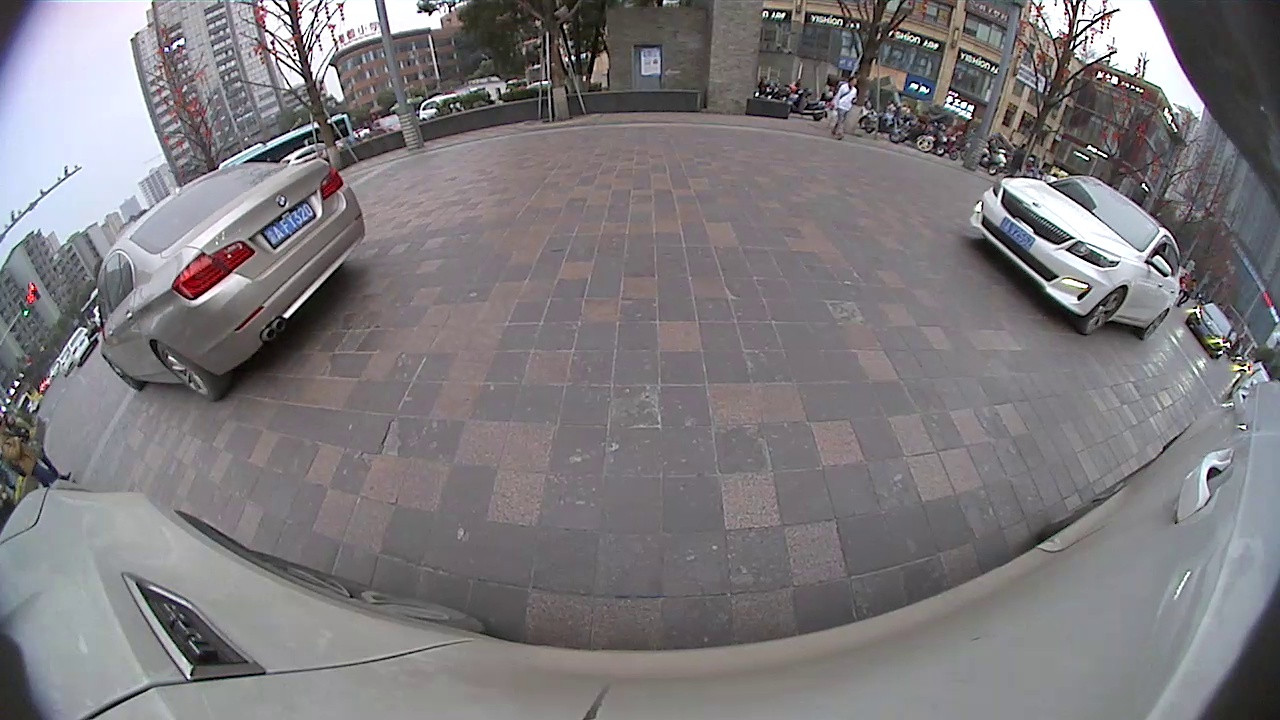car: (97, 158, 367, 403), (968, 172, 1184, 341), (1187, 300, 1242, 362)
front: (1080, 287, 1126, 338)
person: (1, 433, 61, 467), (838, 77, 858, 138)
rear: (149, 339, 222, 403)
